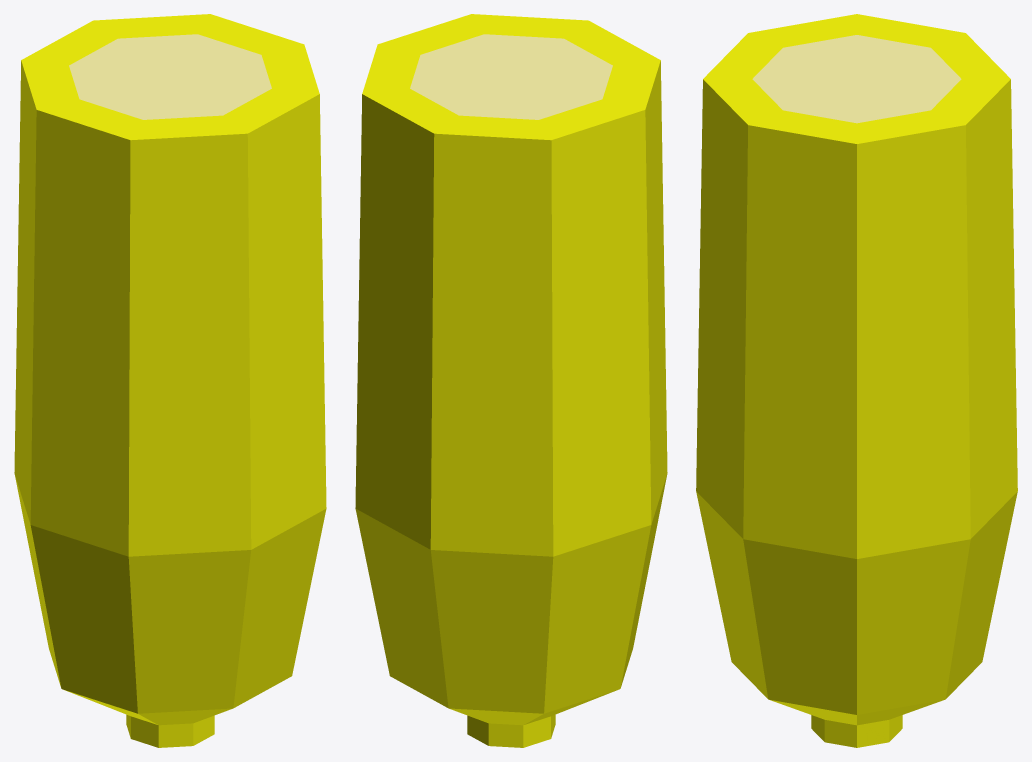
The model's file is corn04.gltf.
The picture shows the model from 3 angles, left to right: view 1: azimuth 30°, elevation 25°; view 2: azimuth 150°, elevation 25°; view 3: azimuth 270°, elevation 25°; orthographic projection.
Parts seen in each view (by area): view 1: Cylinder; view 2: Cylinder; view 3: Cylinder.
Boxes of the visible parts, x1,y1,x2,y2 form: Cylinder: (14, 14, 326, 747); Cylinder: (355, 14, 667, 747); Cylinder: (696, 14, 1017, 747).
Size of the model in its own units: 0.0612 by 0.1362 by 0.0612.
1 material, 1 textured.
